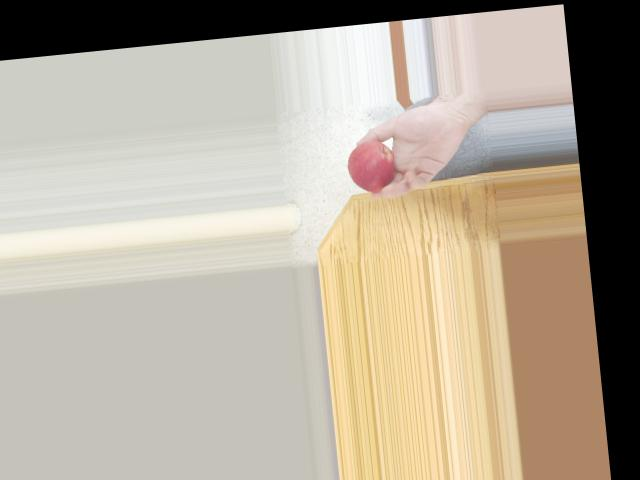apple: (343, 136, 398, 196)
